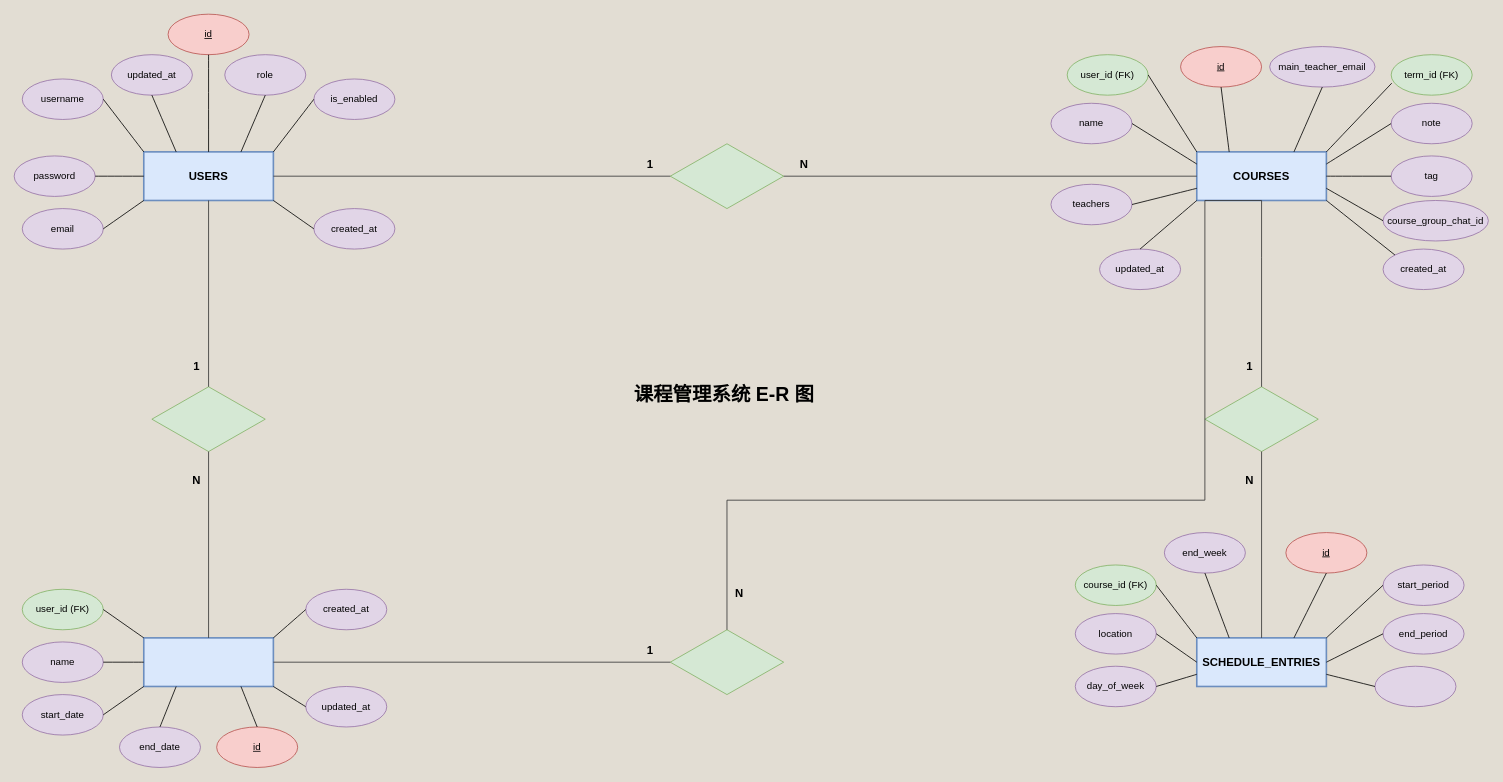
Some shapes in this 1503 by 782 pixel diagram are drawn without their labels. The shapes that lost their labels are listed below. From the top down, each one's centre as x and y in pixels, then its label:
pixel 726 176: 创建
pixel 208 419: 拥有
pixel 1261 419: 有多个排程
pixel 208 662: TERMS
pixel 726 662: 包含
pixel 1415 686: start_week
